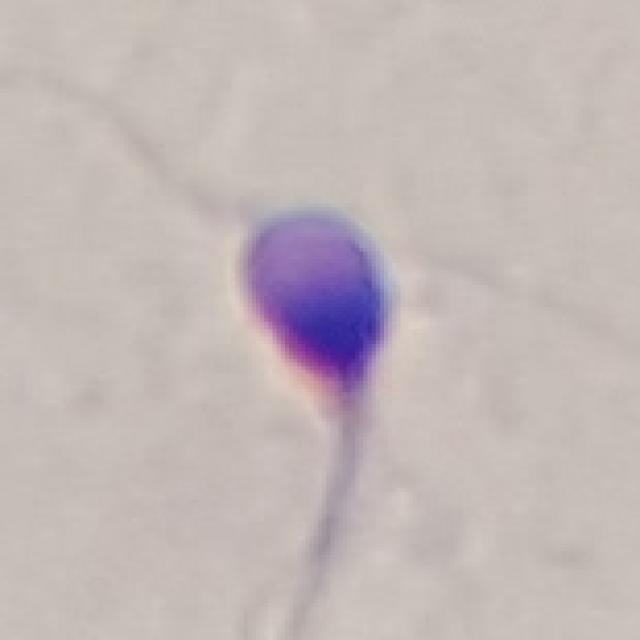normal sperm: (212, 206, 420, 604)
